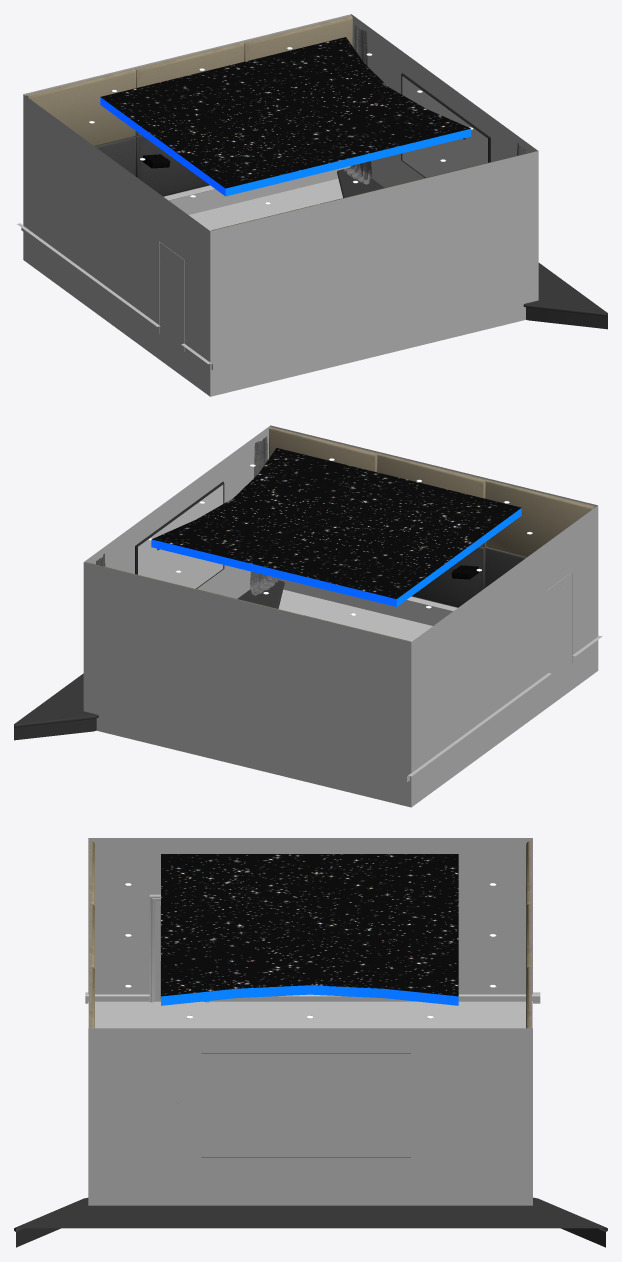
File: small_theatre_separated.fbx
3 renders of one model, top to bottom at view 1: azimuth 30°, elevation 25°; view 2: azimuth 150°, elevation 25°; view 3: azimuth 270°, elevation 25°, orthographic. The views are drawn at different scales.
Visible parts, largest first — view 1: Plane.015, Plane.011, fabric walls, Cube.015, wood 2, Carpet Floor, wood 1, Curtains; view 2: Plane.015, Plane.011, fabric walls, Cube.015, wood 2, Carpet Floor, wood 1, Curtains; view 3: Plane.015, Plane.011, wood 2, Carpet Floor, wood 1, fabric walls.
Boxes of the visible parts, x1,y1,x2,y2 form: Plane.015: (23,14,538,396); Plane.011: (89,37,473,204); fabric walls: (26,15,536,230); Cube.015: (401,73,490,177); wood 2: (337,138,607,329); Carpet Floor: (164,178,342,230); wood 1: (17,166,350,369); Curtains: (344,25,526,184); Plane.015: (83,425,598,807); Plane.011: (149,448,532,615); fabric walls: (86,427,595,641); Cube.015: (135,481,224,588); wood 2: (14,548,284,740); Carpet Floor: (278,589,457,641); wood 1: (270,572,602,781); Curtains: (96,436,277,595); Plane.015: (88,838,532,1205); Plane.011: (124,854,496,1018); wood 2: (14,1197,607,1247); Carpet Floor: (88,1001,532,1028); wood 1: (85,894,540,1003); fabric walls: (89,841,531,1028).
Bounding box in the file's own units: 1061 × 471 × 1223.
